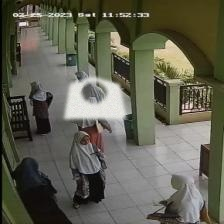Mukena: (63, 76, 126, 119)
